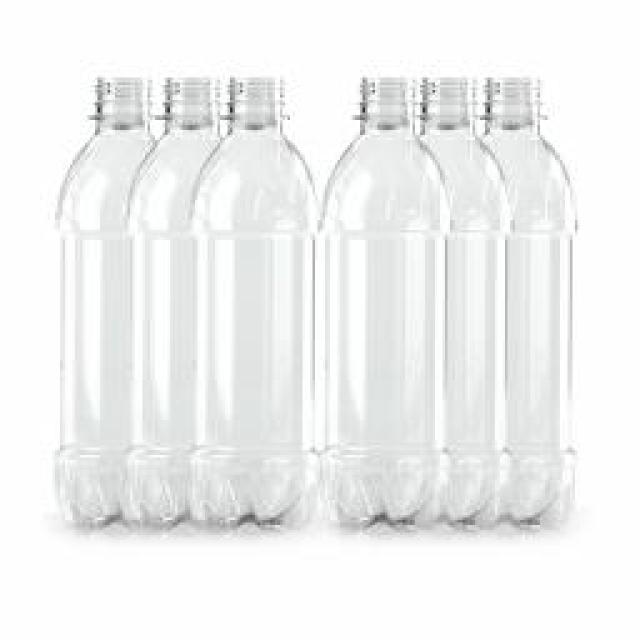bottle: (192, 78, 315, 527), (323, 77, 445, 525), (478, 73, 580, 527), (50, 74, 150, 529)
